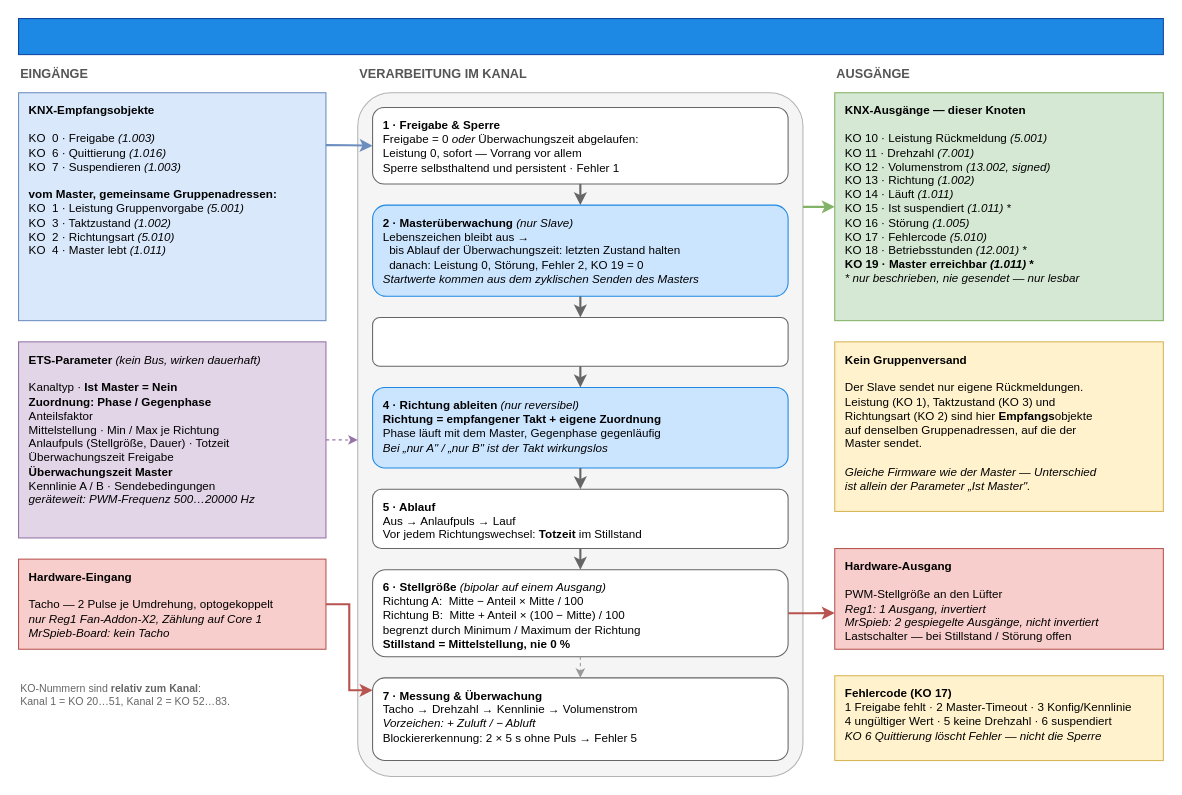
The diagram is 1182 pixels wide and 795 high, and some of its shapes have lost their labels. The shapes that lost their labels are listed below. From the top down, each one's box as (x1, y1, x2, y2) in pixels, then its label:
(17, 17, 1163, 55): OAM-FanControl — Kanal als SLAVE · Eingänge → Verarbeitung → Ausgänge
(372, 316, 788, 366): 3 · Anteilsfaktor Leistung = empfangene Vorgabe × Anteilsfaktor, auf 0…100 %
